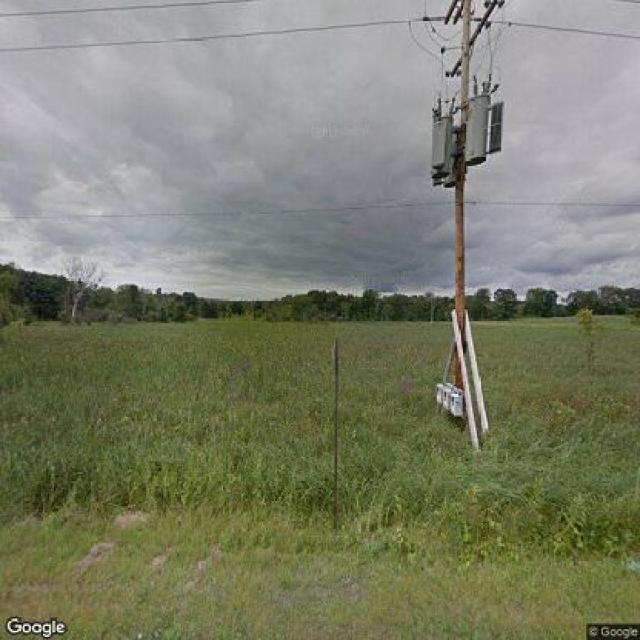light_pole: (416, 0, 514, 434)
